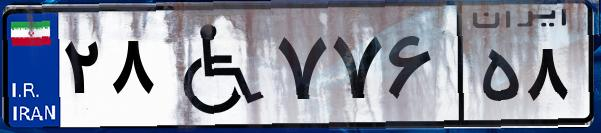2: (57, 26, 110, 100)
5: (475, 38, 525, 113)
6: (385, 28, 445, 110)
7: (270, 28, 330, 110), (330, 28, 385, 110)
8: (525, 38, 570, 115), (110, 28, 158, 98)
ژ (معلولین و جانبازان): (158, 12, 270, 120)
